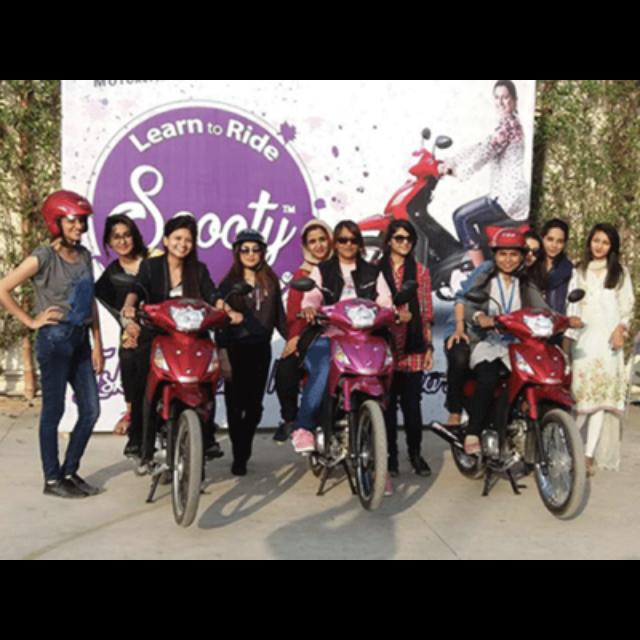With Helmet: (40, 181, 92, 243), (482, 220, 532, 274)
Without Helmet: (160, 213, 198, 263), (328, 214, 366, 262)
